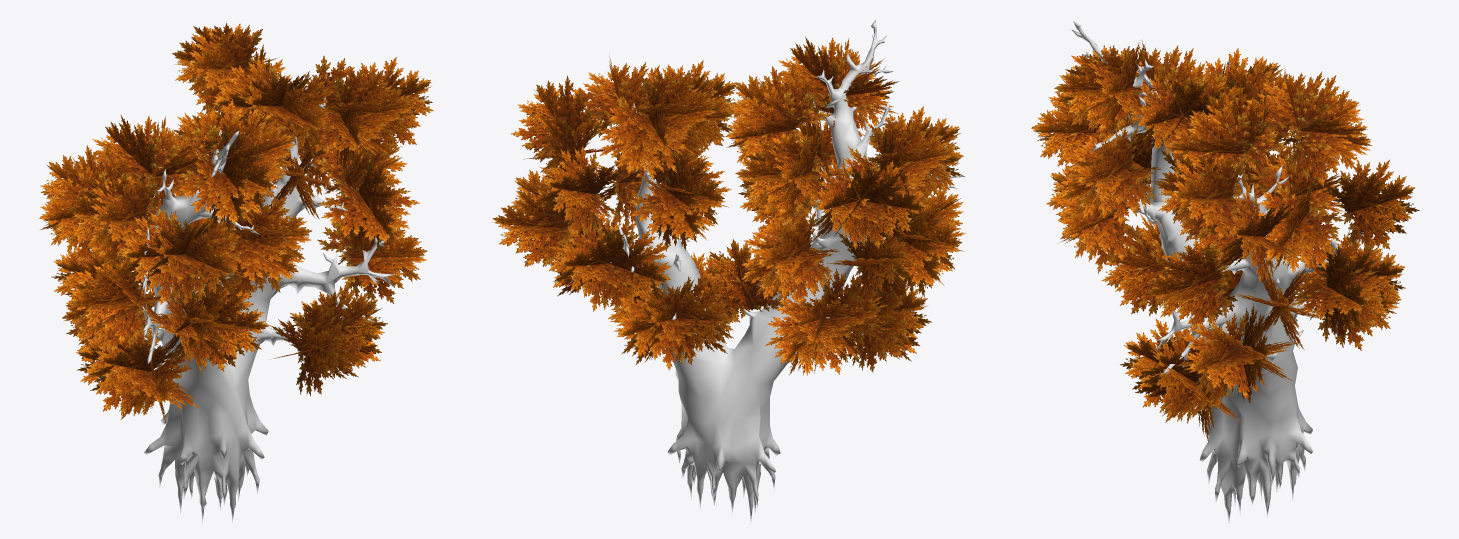
Rendered from scenictree3.fbx.
3 renders of one model, left to right at view 1: azimuth 30°, elevation 25°; view 2: azimuth 150°, elevation 25°; view 3: azimuth 270°, elevation 25°, orthographic. The views are drawn at different scales.
Parts seen in each view (by area): view 1: Plane.064, tripo_node_e597dee9; view 2: Plane.064, tripo_node_e597dee9; view 3: Plane.064, tripo_node_e597dee9.
Part boxes in pixels (box(x1,y1,x2,y2)): Plane.064: box(39, 23, 433, 429); tripo_node_e597dee9: box(142, 97, 394, 524); Plane.064: box(492, 36, 965, 375); tripo_node_e597dee9: box(618, 19, 964, 524); Plane.064: box(1031, 40, 1419, 442); tripo_node_e597dee9: box(1071, 21, 1370, 523).
Size of the model in its own units: 5952 by 6197 by 4931.
192 materials, 192 textured.
